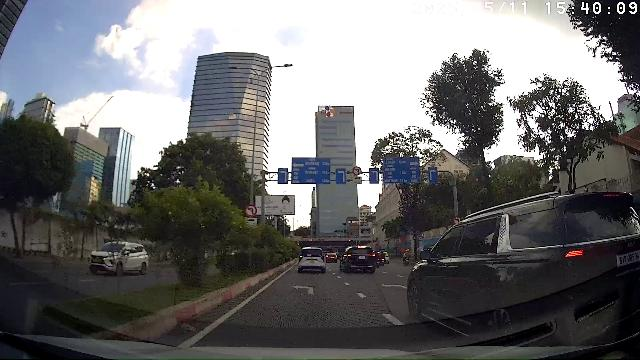123a-cam-re-trai: (245, 204, 257, 218), (352, 166, 362, 176)
